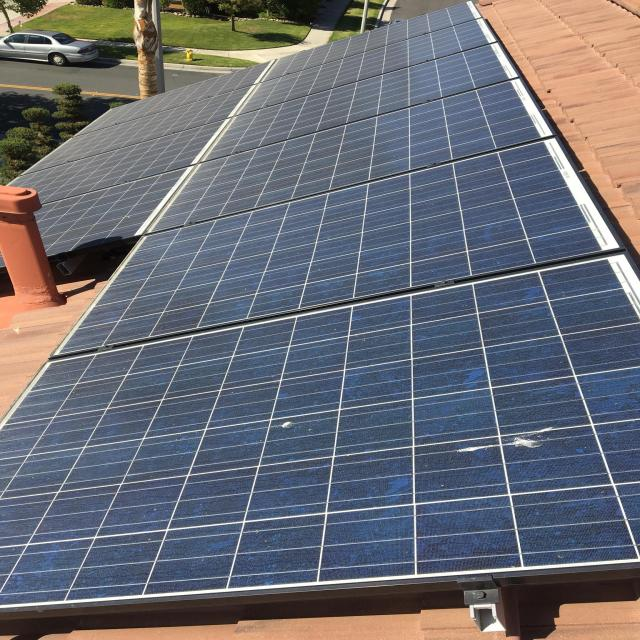dust-solar-panel: (0, 0, 640, 617)
